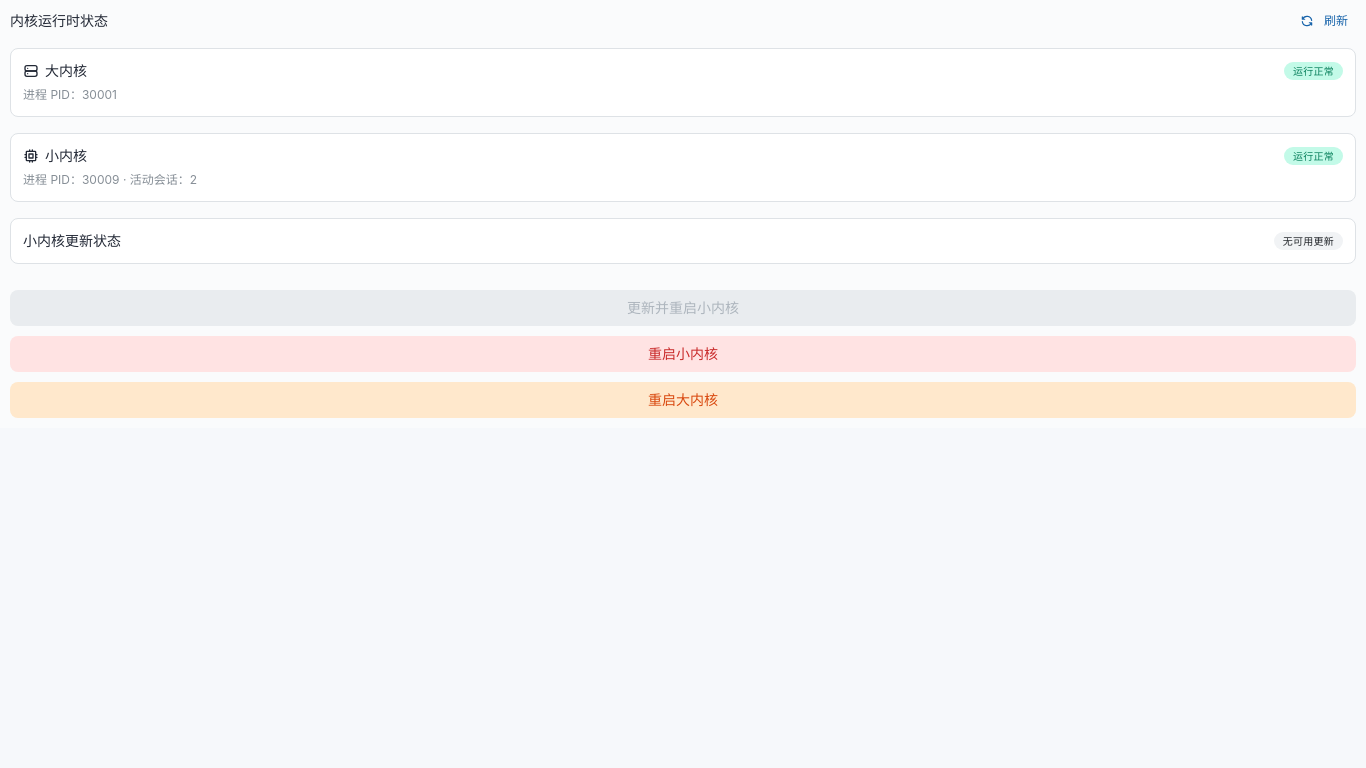
it: KernelManagementPanel › does not send request when operation is cancelled in ConfirmPopover
Click the button "重启小内核". click: {"x": 683, "y": 354}
box: [10,336,1356,372]
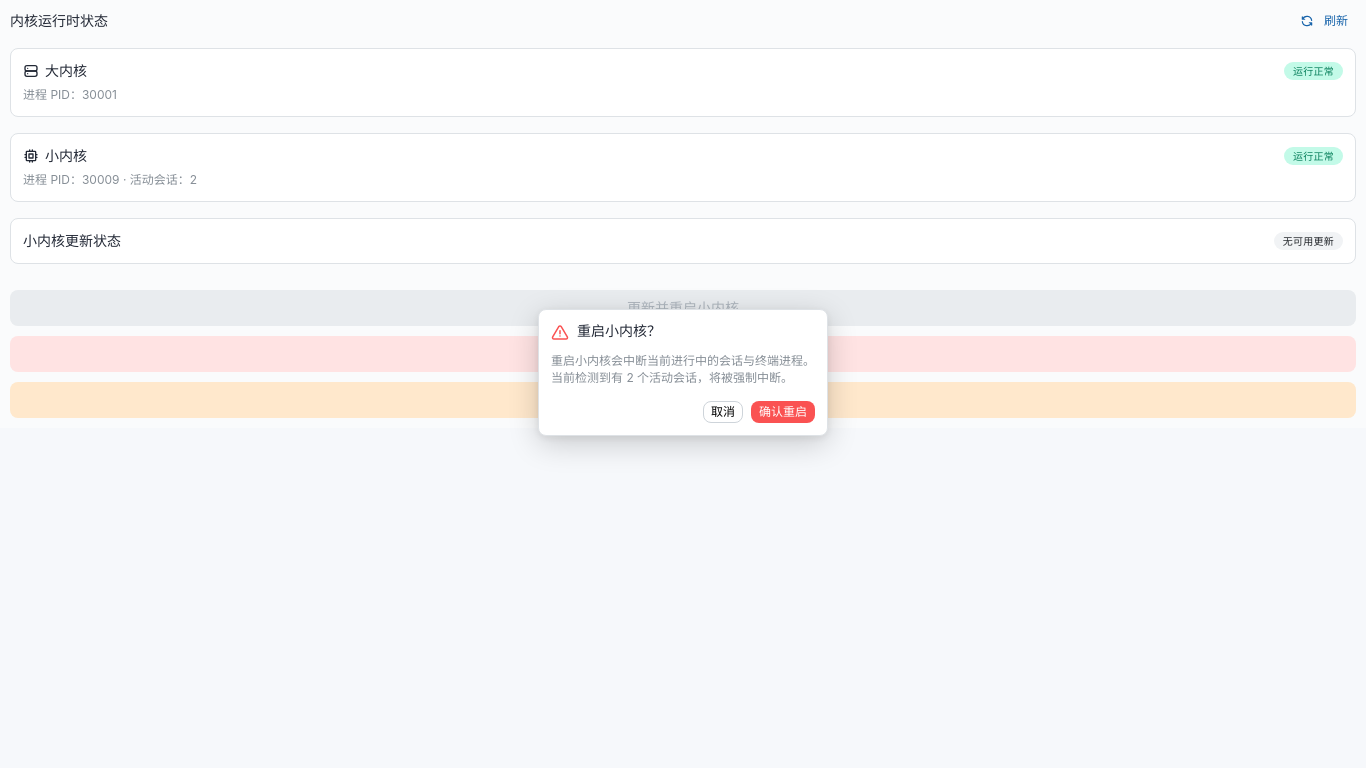
Expected: the dialog "重启小内核？" is shown, [538,309,828,436]
Click the button "取消". click: {"x": 723, "y": 412}
box: [703,401,743,423]
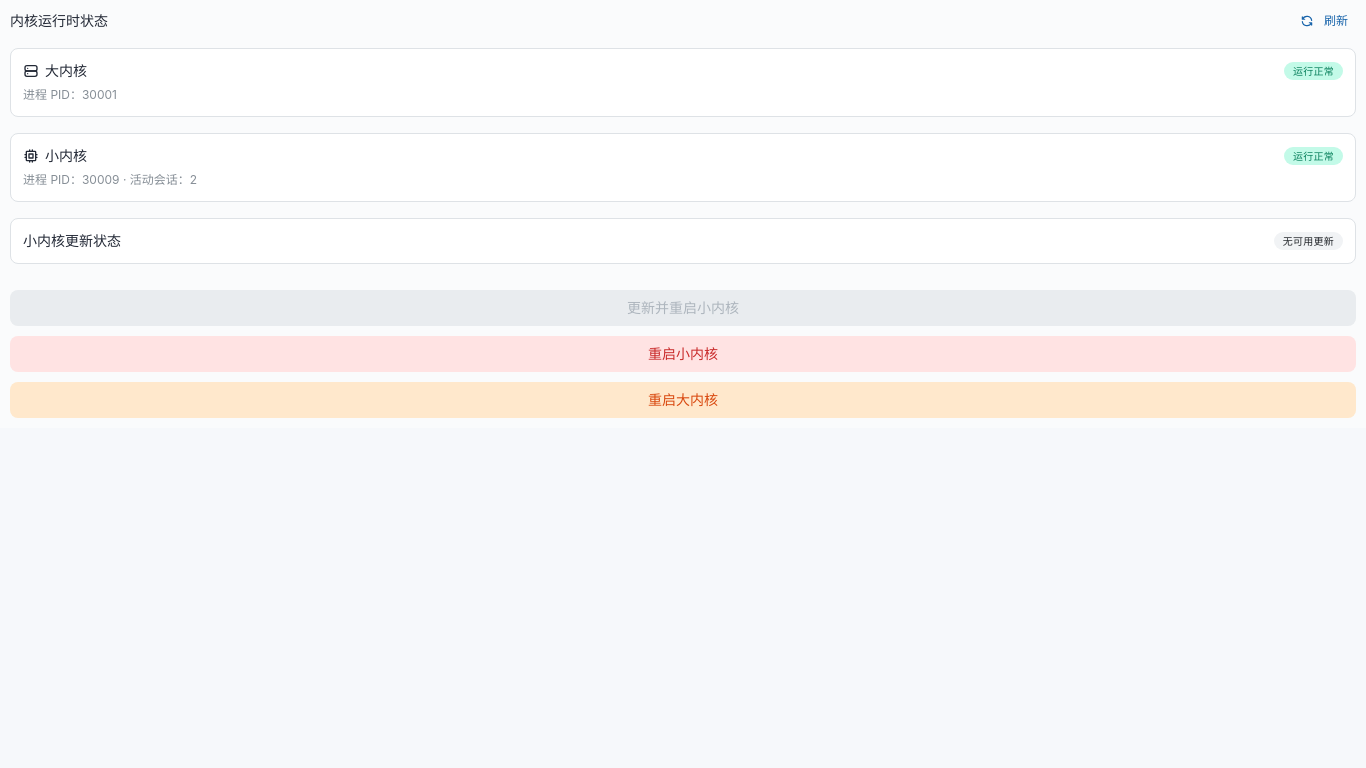
Expected: the text "重启小内核？" is gone
